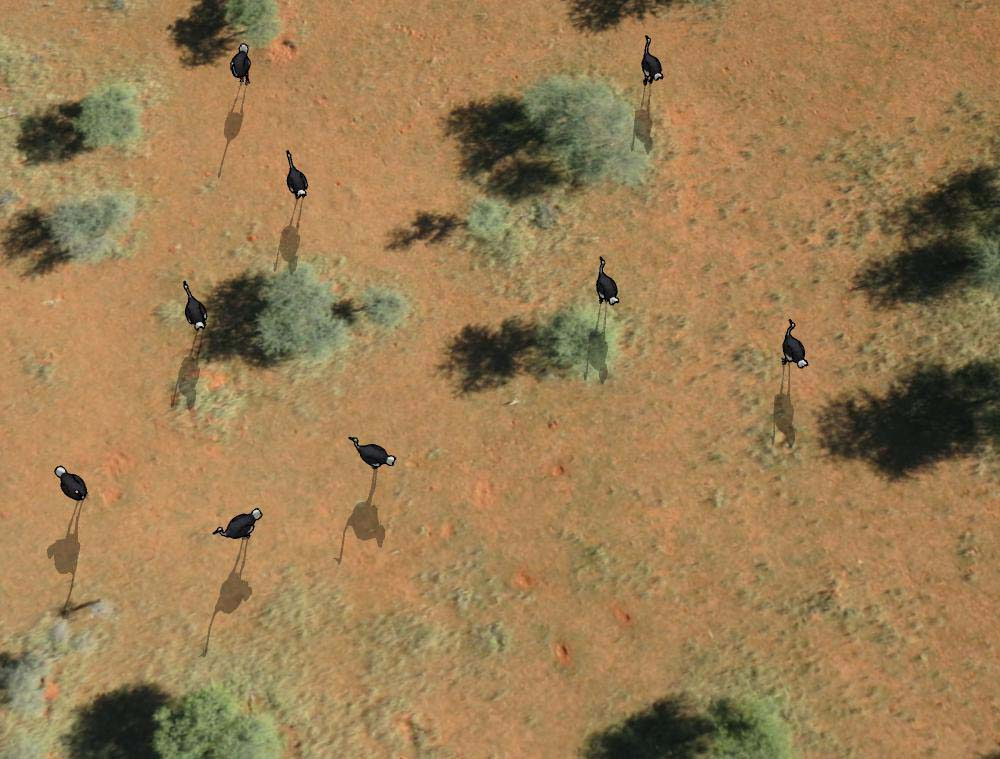springbok: (209, 506, 266, 547), (279, 148, 316, 206), (776, 317, 814, 373), (179, 274, 212, 338), (350, 430, 395, 476), (633, 33, 669, 86), (590, 248, 620, 311), (52, 456, 90, 503), (226, 42, 261, 85)
